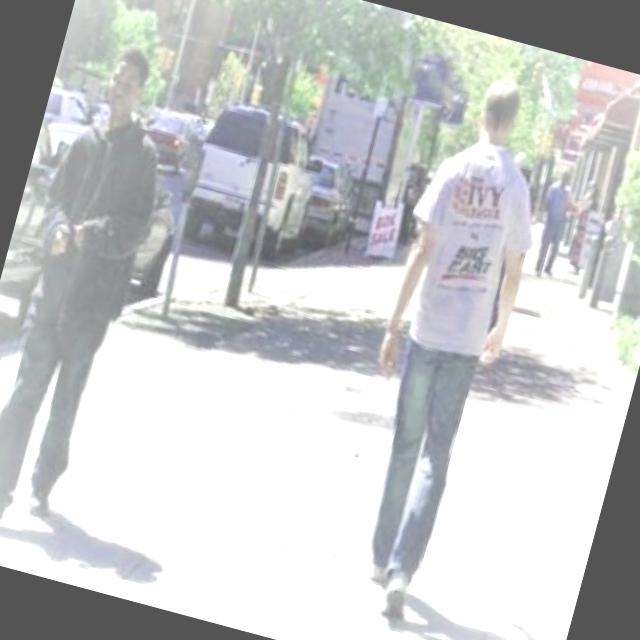Person: (298, 54, 572, 628), (0, 26, 185, 534)
